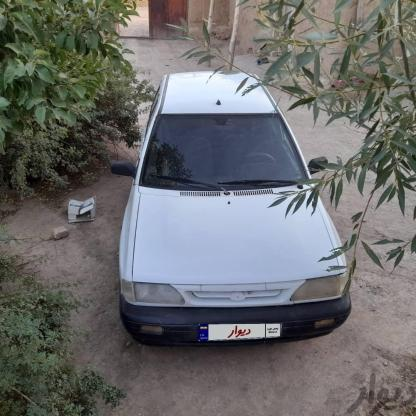Car: (102, 57, 361, 346)
